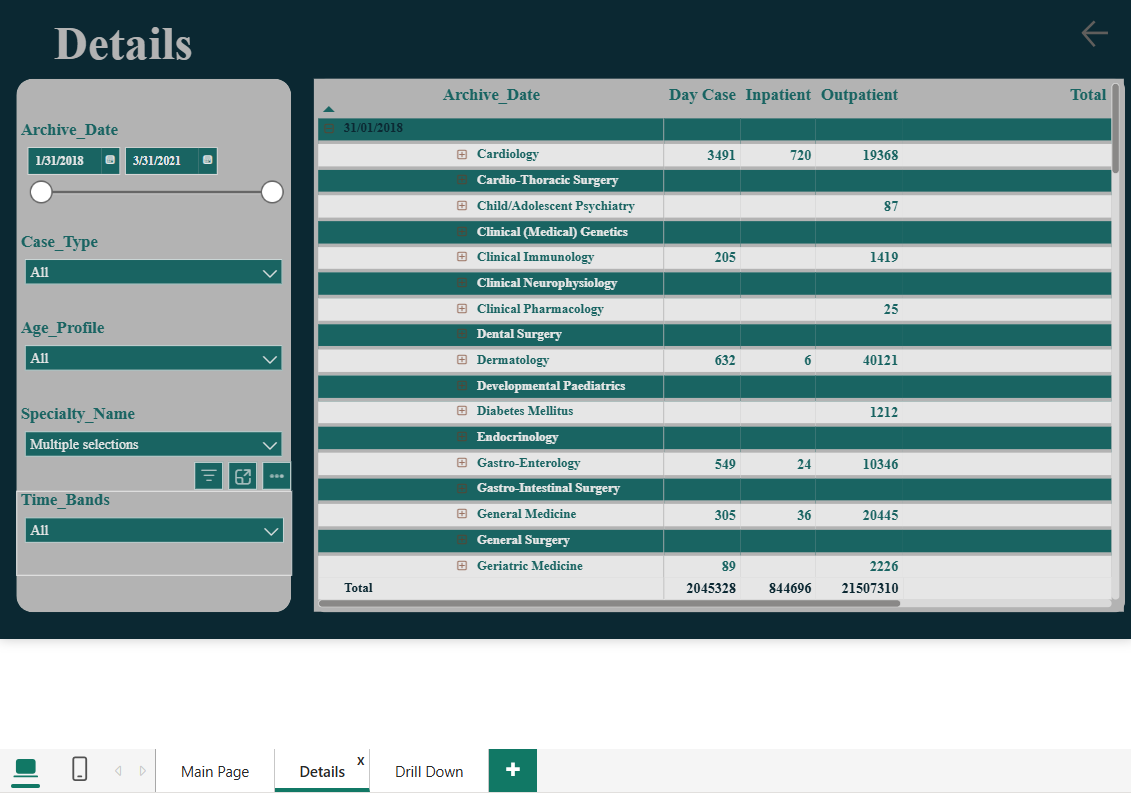

This screenshot's page, from the dashboard's own definition file:
{"tool":"powerbi","page":{"name":"Details","canvas":[1280,720],"ordinal":1},"visuals":[{"type":"shape","box":[20,88.6,310,601.4],"z":0},{"type":"shape","box":[355.7,88.6,912.9,601.4],"z":1000},{"type":"slicer","title":"Archive_Date","fields":{"Values":["All_Data.Archive_Date"]},"box":[20,135.7,310,107.1],"z":2000},{"type":"slicer","title":"Case_Type","fields":{"Values":["All_Data.Case_Type"]},"box":[20,261.4,310,98.6],"z":3000},{"type":"slicer","title":"Specialty_Name","fields":{"Values":["All_Data.Specialty_Name"]},"box":[20,455.7,310,97.1],"z":4000},{"type":"textbox","title":"Details","box":[20,18.6,241.4,55.7],"z":5000},{"type":"slicer","title":"Age_Profile","fields":{"Values":["All_Data.Age_Profile"]},"box":[20,358.6,310,97.1],"z":6000},{"type":"slicer","title":"Time_Bands","fields":{"Values":["All_Data.Time_Bands"]},"box":[20,552.9,311.4,95.7],"z":7000},{"type":"pivotTable","fields":{"Rows":["All_Data.Archive_Date","All_Data.Specialty_Name","All_Data.Age_Profile","All_Data.Time_Bands"],"Columns":["All_Data.Case_Type"],"Values":["Sum(All_Data.Total)"]},"box":[355.2,88.1,913.4,600.9],"z":8000},{"type":"actionButton","box":[1216.5,18.7,52.1,40.1],"z":9000}]}

Visuals, with their boxes on the page's 1280x720 design canvas (x1, y1, x2, y2). These are canvas units, not pixel positions in the 1131x793 screenshot, which may show the page scaled, cropped or inside an application window:
shape: 20/89/330/690
shape: 356/89/1269/690
"Archive_Date" slicer: 20/136/330/243
"Case_Type" slicer: 20/261/330/360
"Specialty_Name" slicer: 20/456/330/553
"Details" textbox: 20/19/261/74
"Age_Profile" slicer: 20/359/330/456
"Time_Bands" slicer: 20/553/331/649
pivotTable - All_Data.Archive_Date x All_Data.Specialty_Name: 355/88/1269/689
actionButton: 1216/19/1269/59
